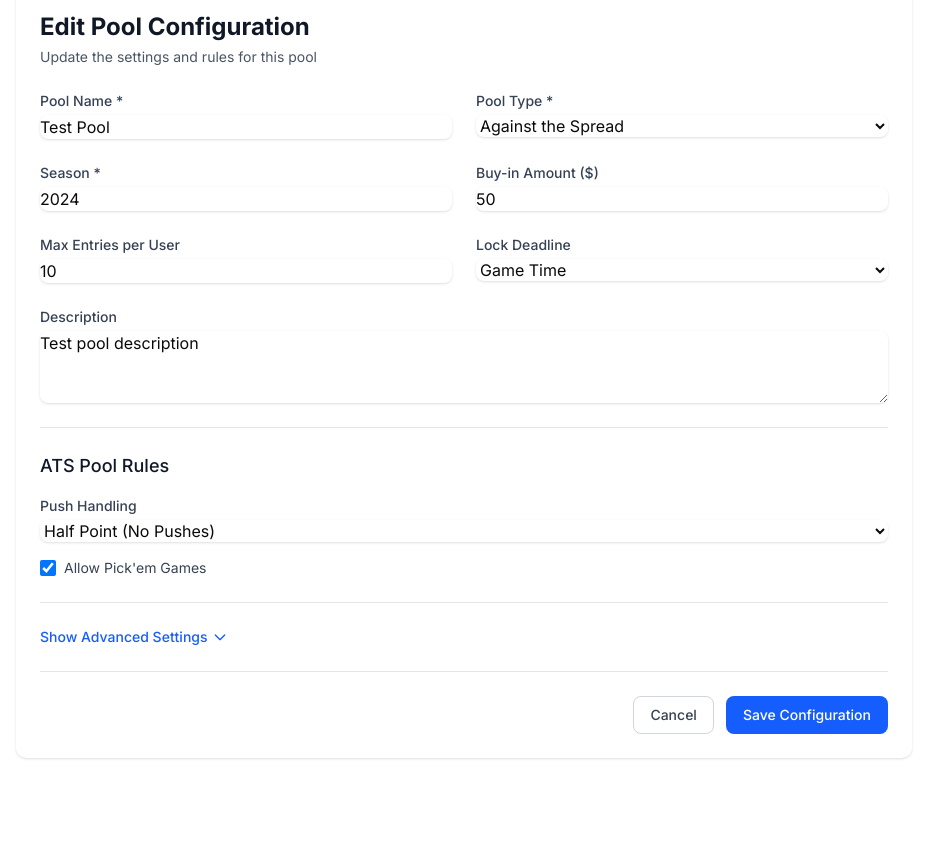
Test: PoolConfigurationForm › toggles advanced settings visibility
The image size is (929, 856).
Expected: the text "advanced pool settings" is not shown
# Click to show advanced settings
Click the button "Show Advanced Settings" at (134, 637), box [40,627,228,647]
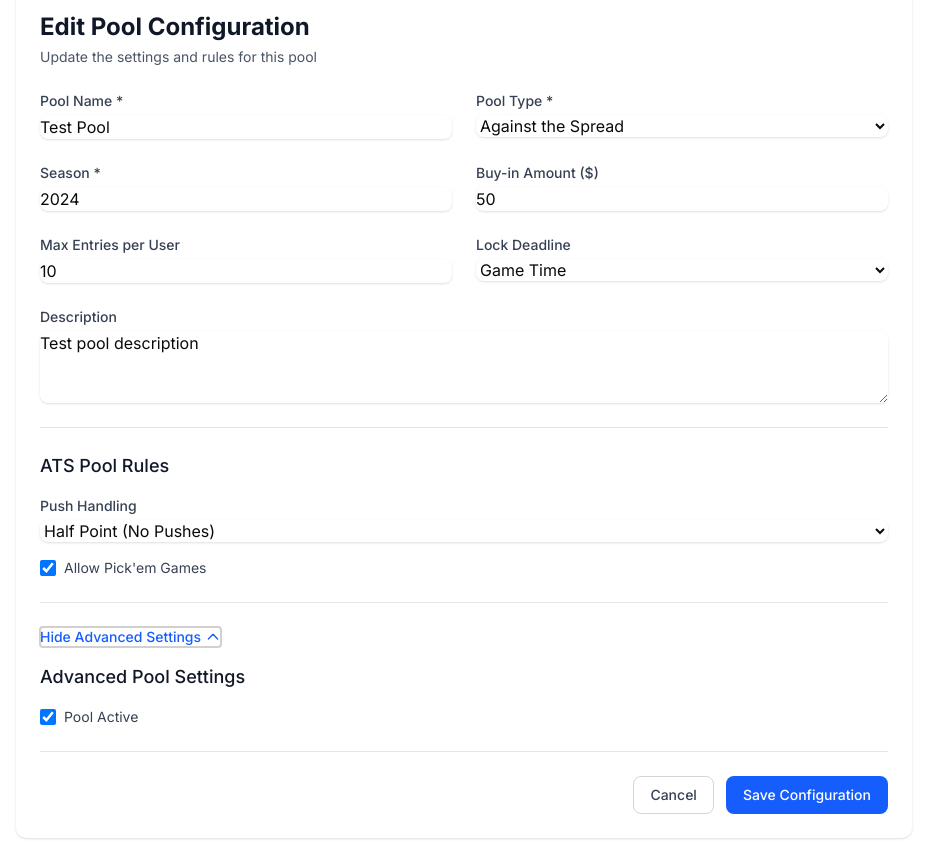
Now the heading "Advanced Pool Settings" is shown, box [40,666,245,687]
Now the checkbox labelled "Pool Active" is shown, box [40,709,56,725]
# Click to hide advanced settings
Click the button "Hide Advanced Settings" at (131, 637), box [40,627,221,647]
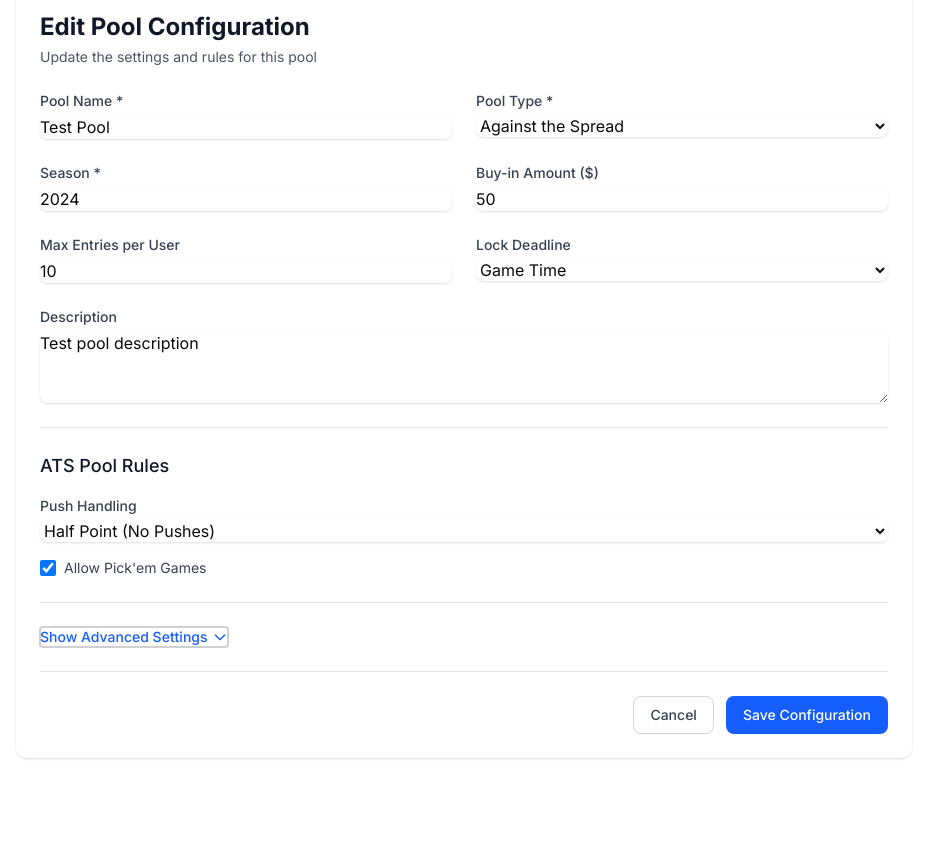
Now the heading "Advanced Pool Settings" is gone
